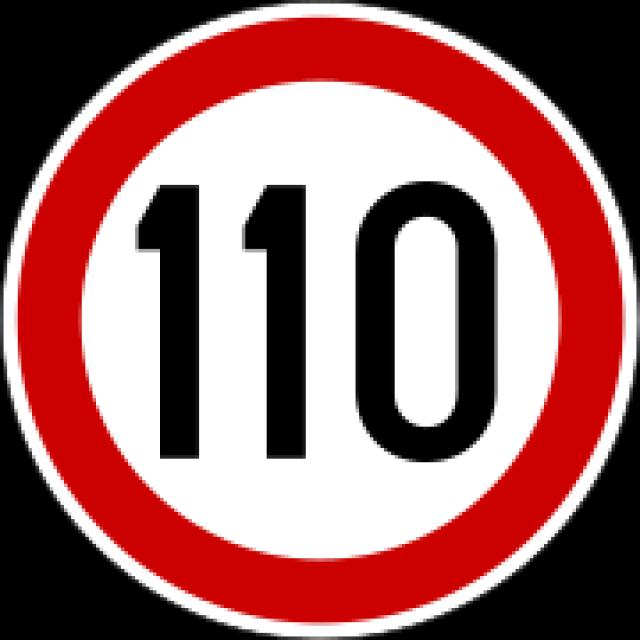Speed Limit -110-: (136, 179, 500, 461)
